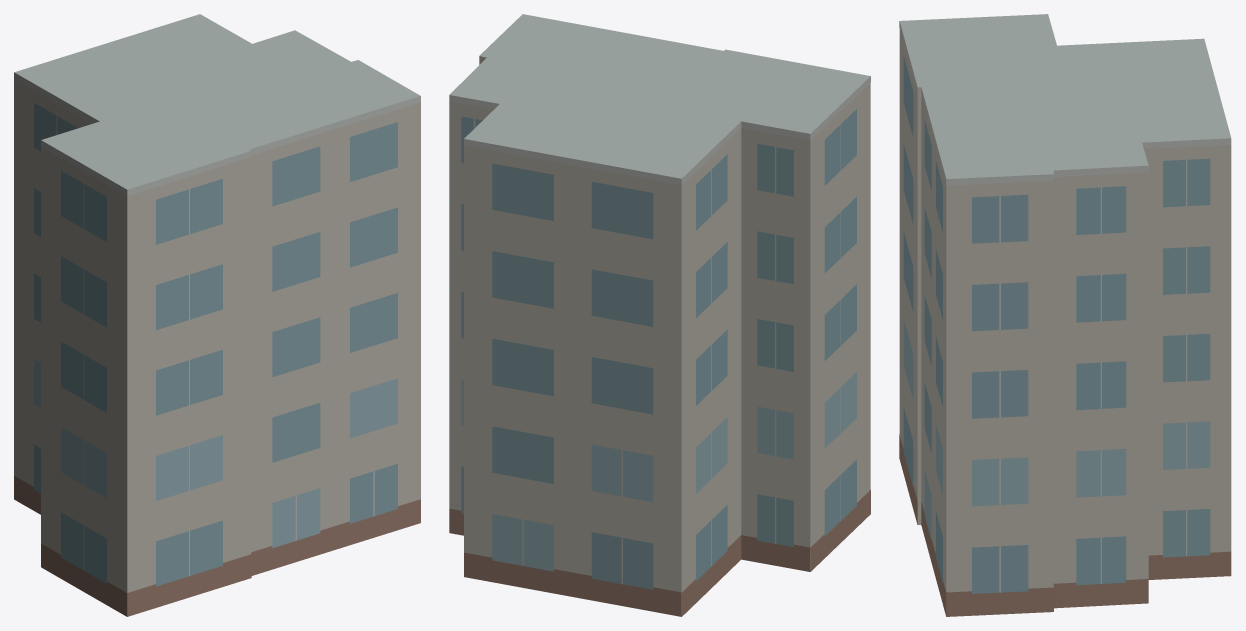
Rendered from survey-upis-32463594.glb.
3 views of the same model, side by side, from view 1: azimuth 30°, elevation 25°; view 2: azimuth 150°, elevation 25°; view 3: azimuth 270°, elevation 25° (orthographic). The views are drawn at different scales.
Visible parts, largest first — view 1: survey-upis-32463594.tmp; view 2: survey-upis-32463594.tmp; view 3: survey-upis-32463594.tmp.
Boxes of the visible parts, left/top/right/bottom form: survey-upis-32463594.tmp: left=14, top=14, right=420, bottom=616; survey-upis-32463594.tmp: left=449, top=14, right=870, bottom=616; survey-upis-32463594.tmp: left=899, top=14, right=1231, bottom=616.
Size of the model in its own units: 13.14 by 16.23 by 11.16.
